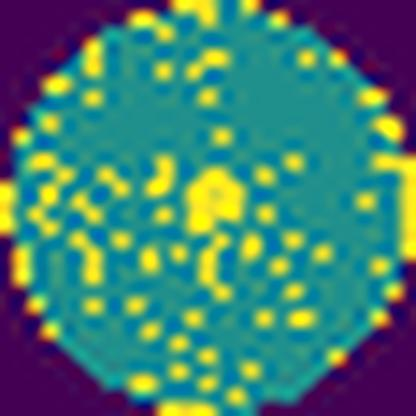Center: (176, 159, 256, 234)
